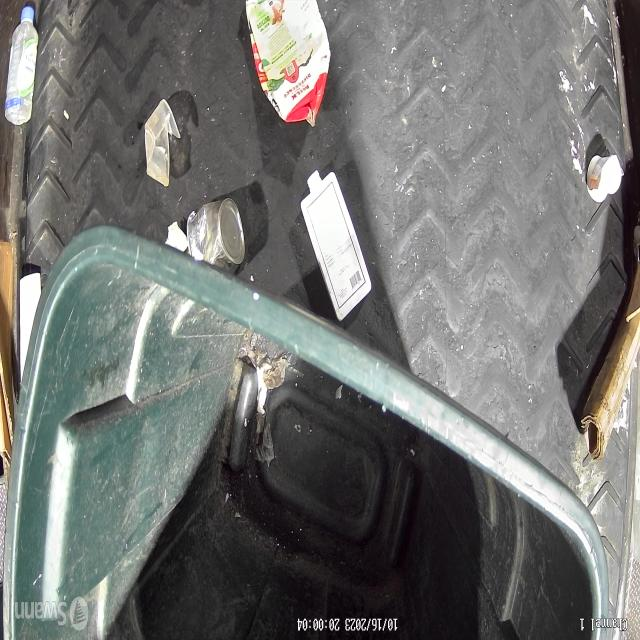can: (187, 198, 246, 272)
non_white_jug: (242, 0, 330, 130)
plastic_bottle: (4, 5, 39, 127)
